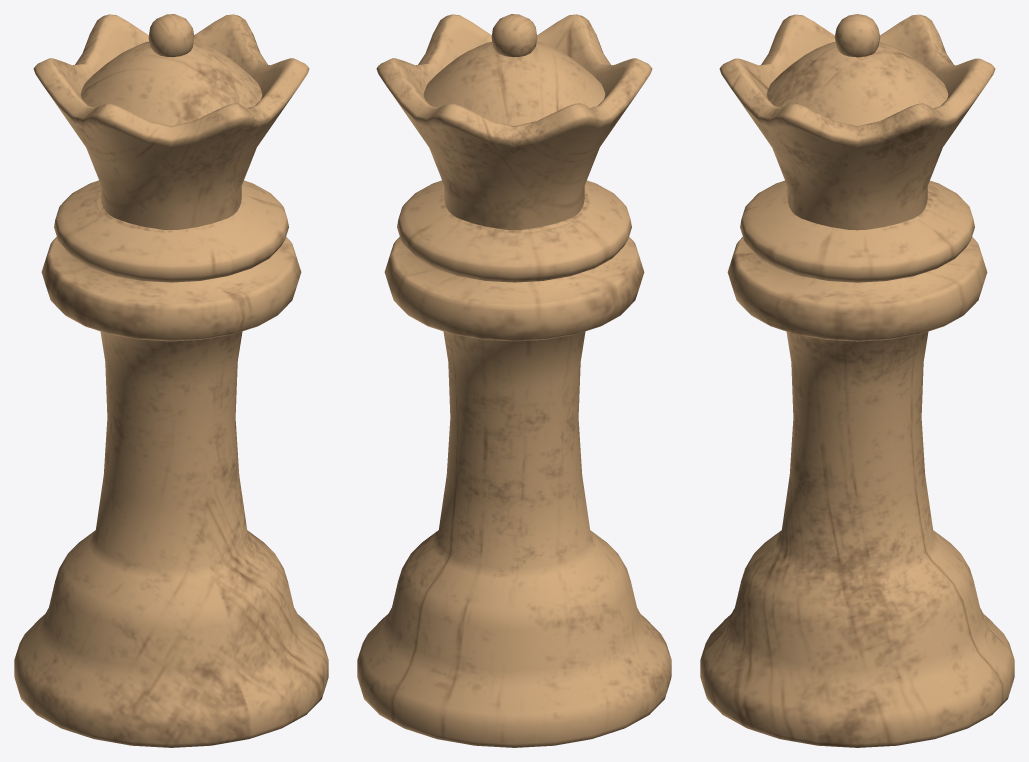
The model's file is GEO_WhiteQueen.gltf.
The picture shows the model from 3 angles, left to right: view 1: azimuth 30°, elevation 25°; view 2: azimuth 150°, elevation 25°; view 3: azimuth 270°, elevation 25°; orthographic projection.
Parts seen in each view (by area): view 1: GEO_WhiteQueen; view 2: GEO_WhiteQueen; view 3: GEO_WhiteQueen.
Boxes of the visible parts, x1,y1,x2,y2 form: GEO_WhiteQueen: [14, 14, 328, 747]; GEO_WhiteQueen: [357, 14, 671, 747]; GEO_WhiteQueen: [700, 14, 1014, 747].
Bounding box in the file's own units: 0.0374 × 0.0876 × 0.0374.
